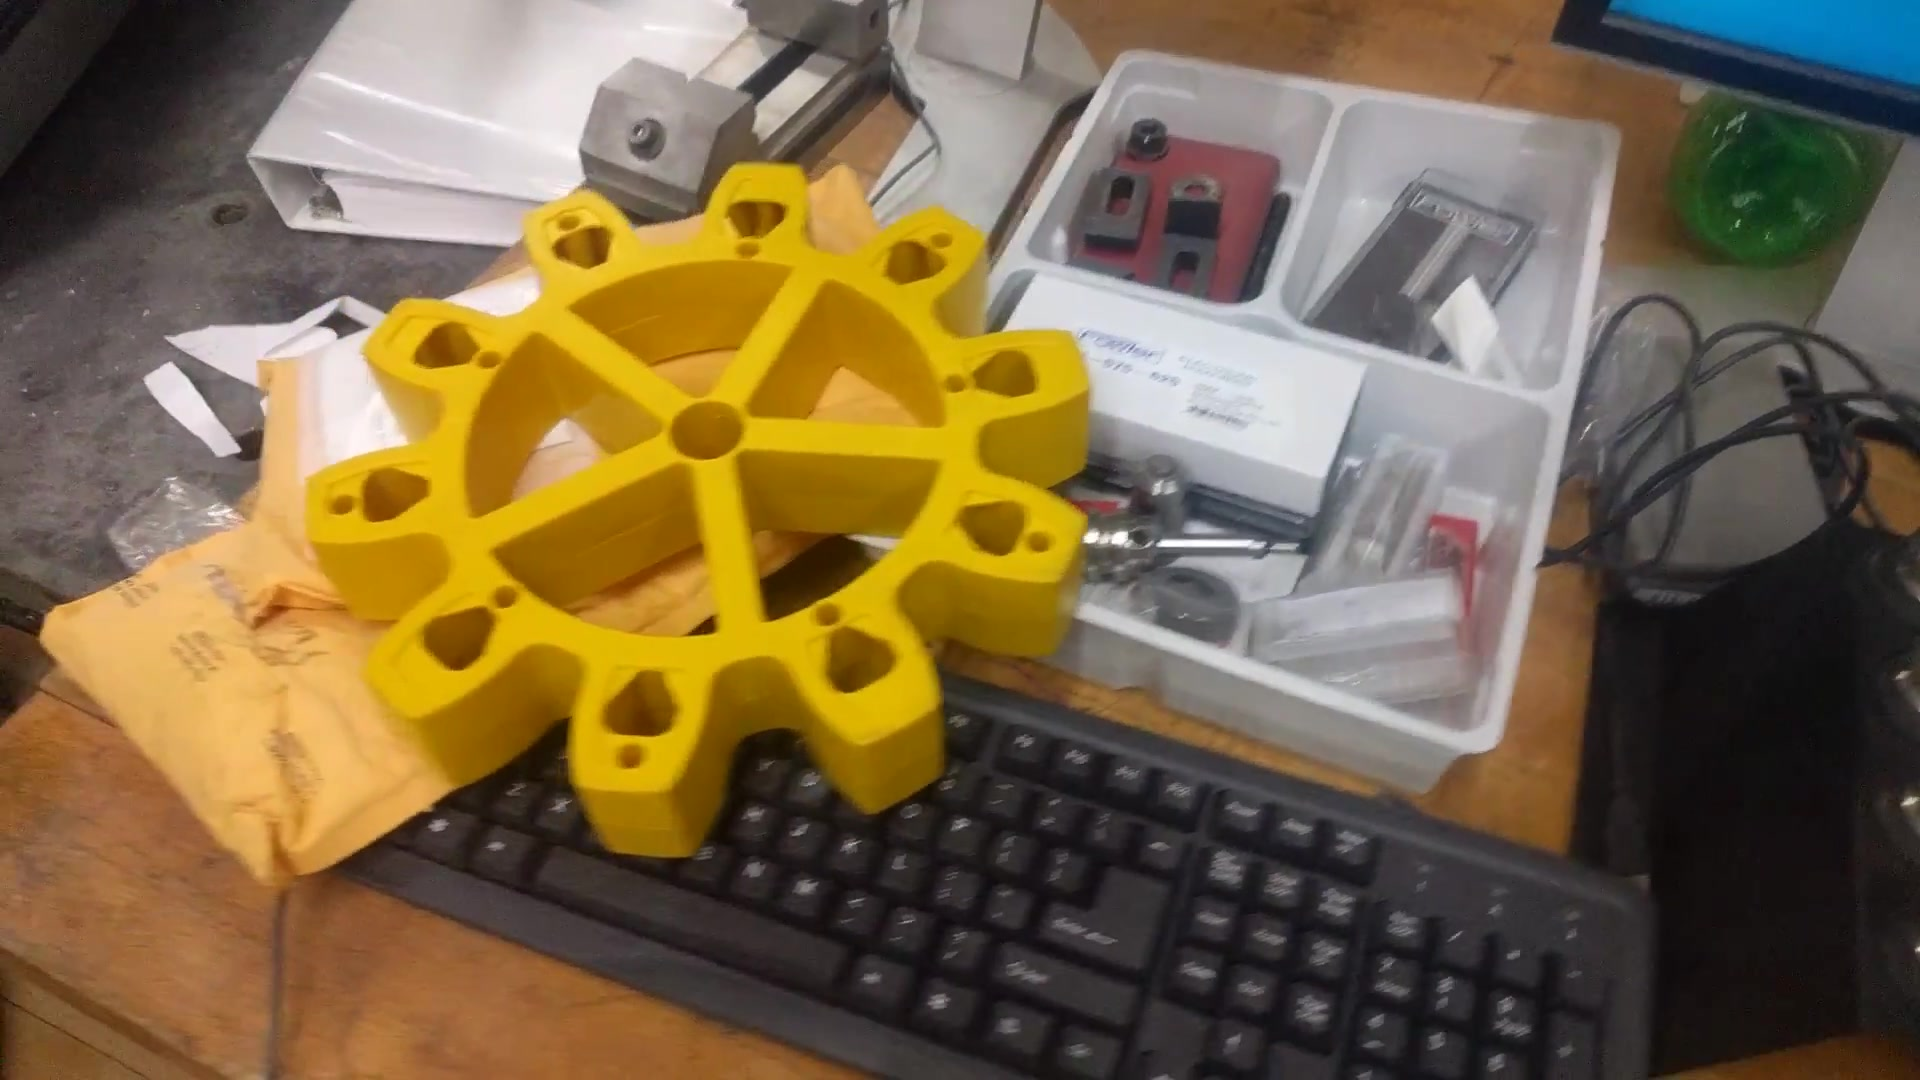gear: (328, 162, 1141, 909)
